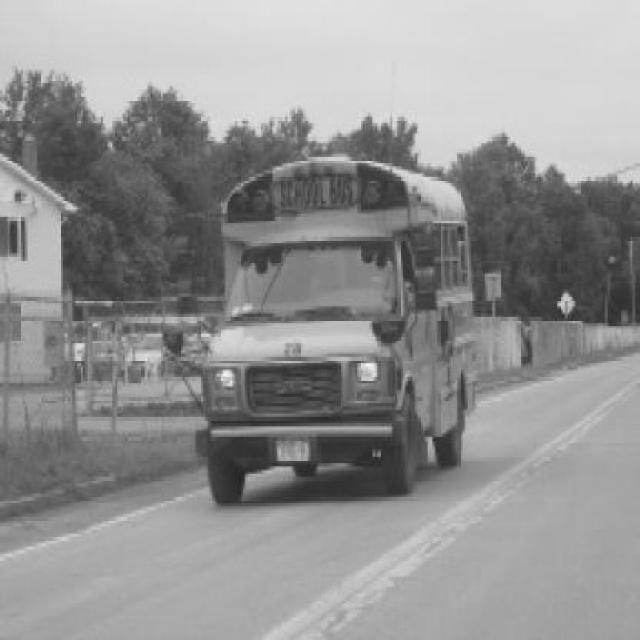Bus- Small: (160, 157, 477, 508)
